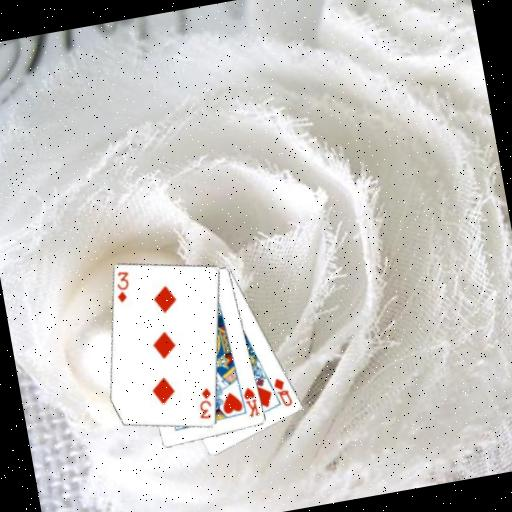3D: (191, 384, 217, 422), (110, 267, 134, 305)
KH: (238, 383, 261, 419)
QD: (269, 372, 295, 409)
